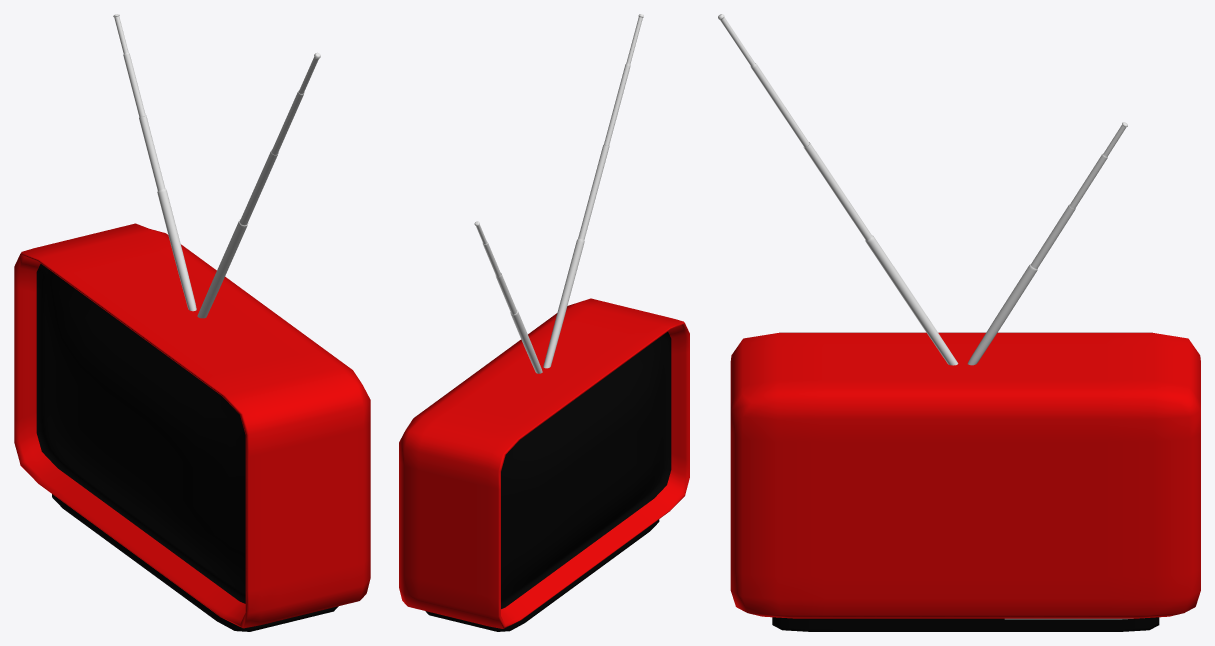
3 renders of one model, left to right at view 1: azimuth 30°, elevation 25°; view 2: azimuth 150°, elevation 25°; view 3: azimuth 270°, elevation 25°, orthographic. The views are drawn at different scales.
Visible parts, largest first — view 1: pCylinder6, polySurface2, polySurface1; view 2: pCylinder6, polySurface1, polySurface2; view 3: pCylinder6, polySurface1, polySurface2.
Boxes of the visible parts, x1=… form: pCylinder6: x1=14, y1=223, x2=370, y2=631; polySurface2: x1=113, y1=14, x2=196, y2=311; polySurface1: x1=197, y1=52, x2=320, y2=318; pCylinder6: x1=399, y1=298, x2=689, y2=631; polySurface1: x1=543, y1=14, x2=643, y2=368; polySurface2: x1=474, y1=221, x2=542, y2=373; pCylinder6: x1=730, y1=332, x2=1200, y2=631; polySurface1: x1=718, y1=14, x2=958, y2=365; polySurface2: x1=967, y1=122, x2=1127, y2=365.
Bounding box in the file's own units: 0.6479 × 2.66 × 1.95.
